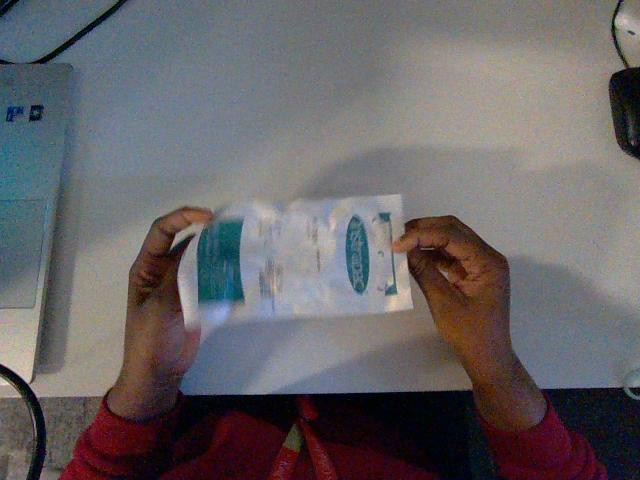gallipot: (178, 195, 411, 322)
